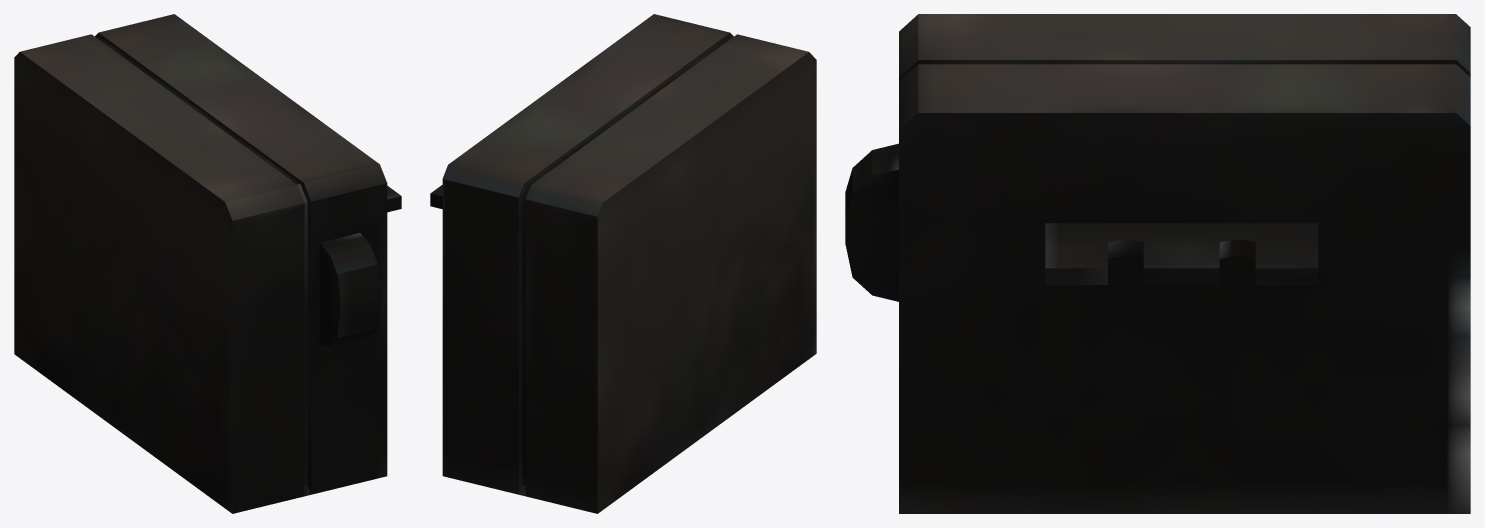
File: bvs.fbx
The picture shows the model from 3 angles, left to right: view 1: azimuth 30°, elevation 25°; view 2: azimuth 150°, elevation 25°; view 3: azimuth 270°, elevation 25°; orthographic projection. The views are drawn at different scales.
Visible parts, largest first — view 1: bvs; view 2: bvs; view 3: bvs.
Boxes of the visible parts, box(x1,y1,x2,y2) form: bvs: box(14, 14, 401, 513); bvs: box(430, 14, 816, 513); bvs: box(845, 14, 1470, 513).
Bounding box in the file's own units: 0.044 × 0.0573 × 0.081.
